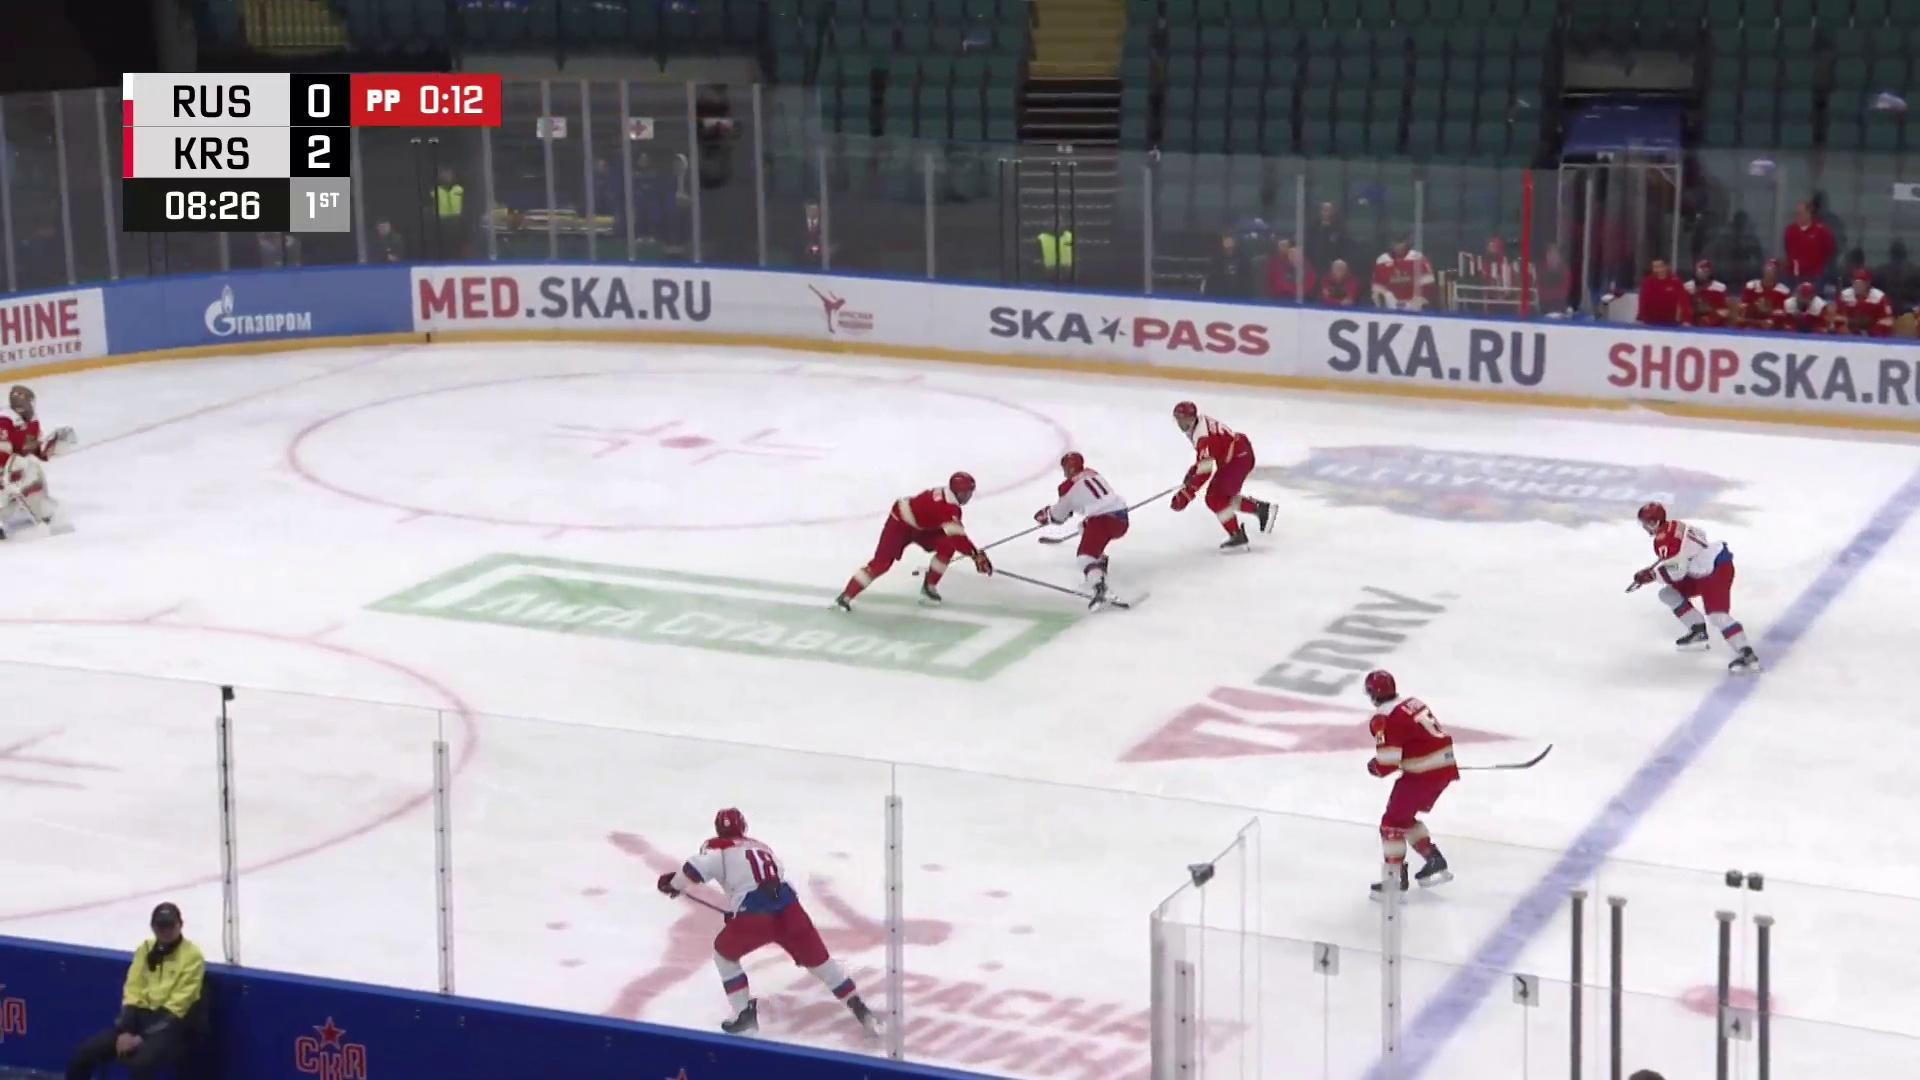ball: (910, 570, 922, 578)
